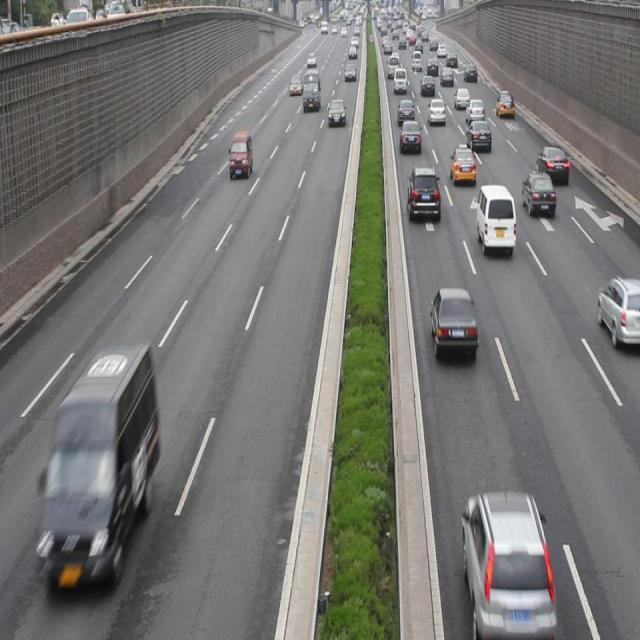car: (460, 492, 555, 634), (428, 286, 477, 360), (596, 272, 636, 348), (404, 164, 440, 222), (522, 174, 553, 217), (536, 146, 568, 186), (448, 146, 475, 185), (399, 117, 420, 153), (467, 120, 489, 149)
truck: (39, 350, 160, 584), (475, 186, 515, 253), (228, 132, 254, 180)
